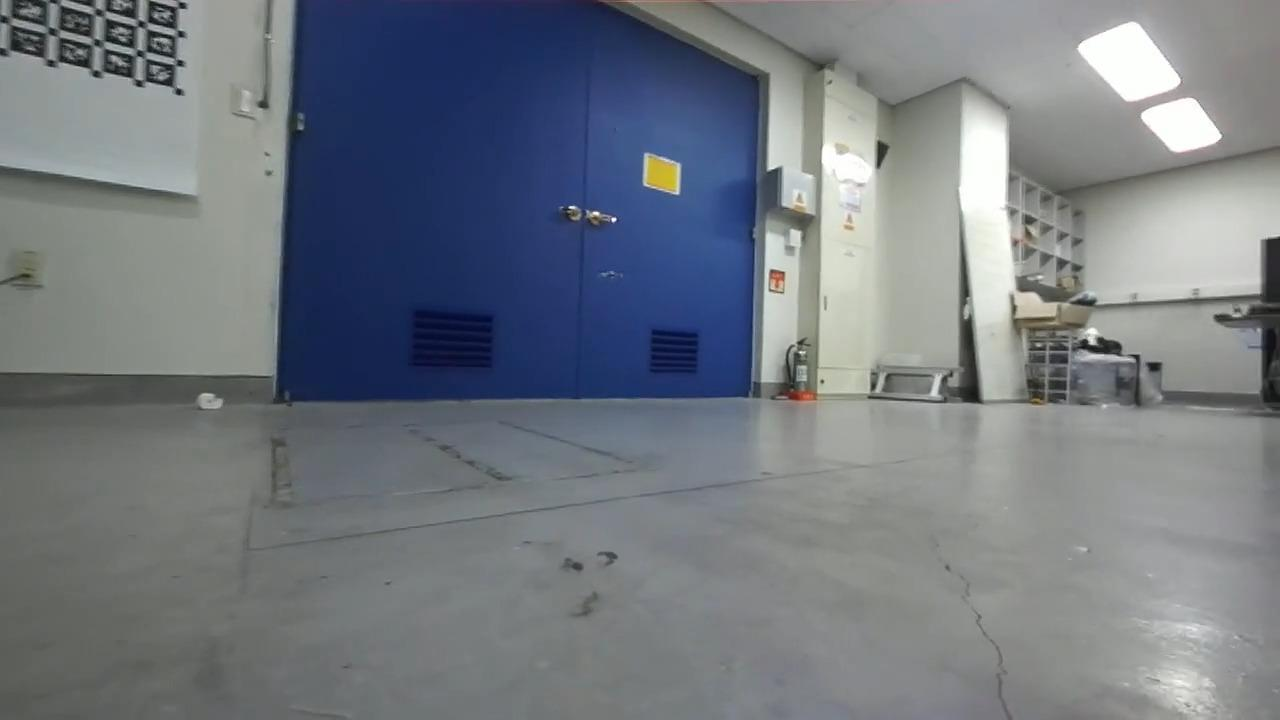crazyflie: (585, 264, 634, 285)
